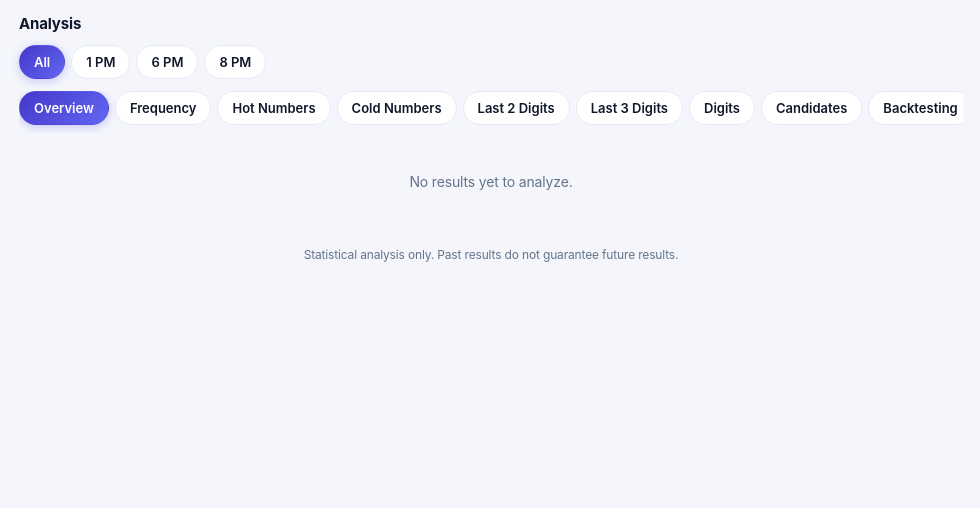
Analysis page › switches tabs and loads candidate data for the Candidates tab
The width and height of the screenshot is (980, 508).
What coordinates should you click on to do the following:
click the button "Candidates"
I would click on:
 (812, 108)
Its box is [761,91,862,125].
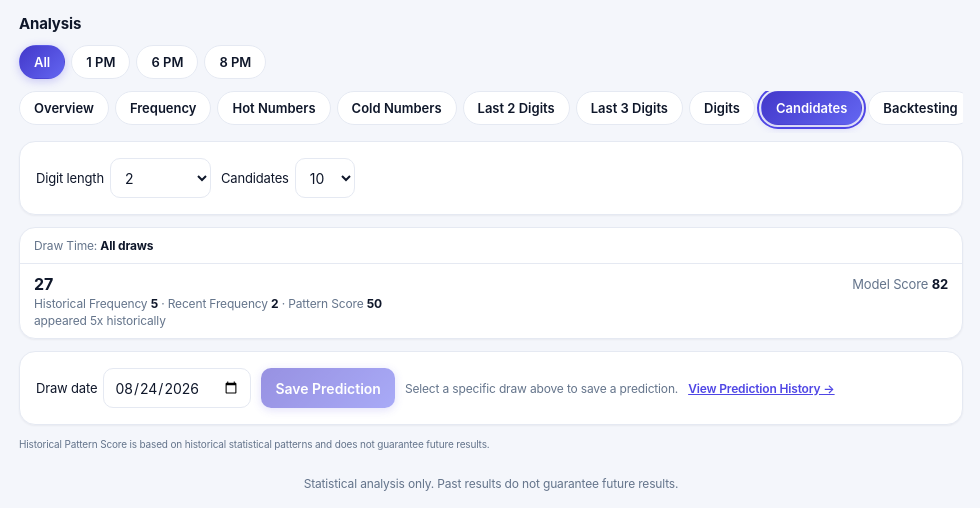
Result: the text "27" is shown at [34,274,53,294]
Result: the text "82" is shown at [932,276,948,292]
